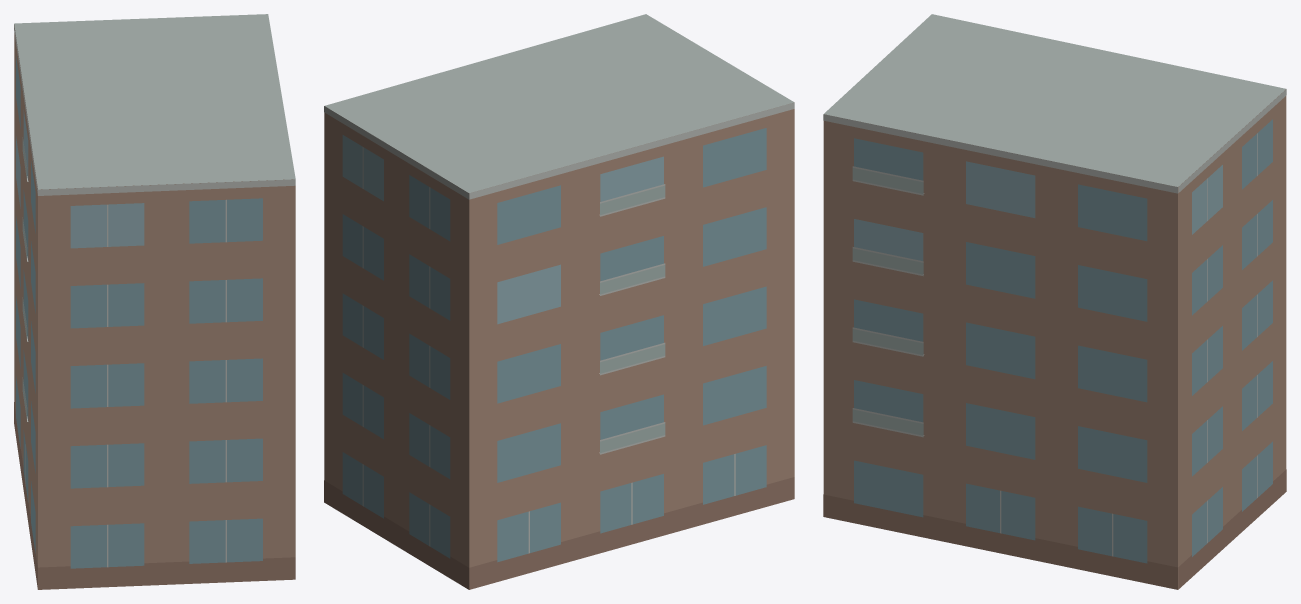
File: survey-upis-32988053.glb
3 renders of one model, left to right at view 1: azimuth 30°, elevation 25°; view 2: azimuth 150°, elevation 25°; view 3: azimuth 270°, elevation 25°, orthographic.
Parts seen in each view (by area): view 1: survey-upis-32988053.tmp; view 2: survey-upis-32988053.tmp; view 3: survey-upis-32988053.tmp.
Boxes of the visible parts, <box> form: survey-upis-32988053.tmp: <box>14,14,295,589</box>; survey-upis-32988053.tmp: <box>324,14,794,589</box>; survey-upis-32988053.tmp: <box>823,14,1286,589</box>.
Bounding box in the file's own units: 13.88 × 15.05 × 15.69.
